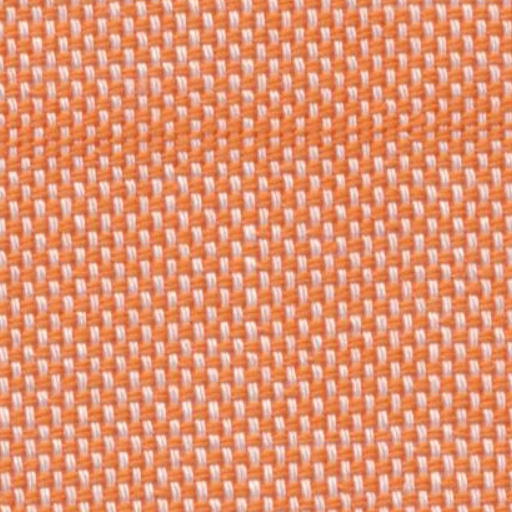TuoSha: (24, 98, 500, 178)
